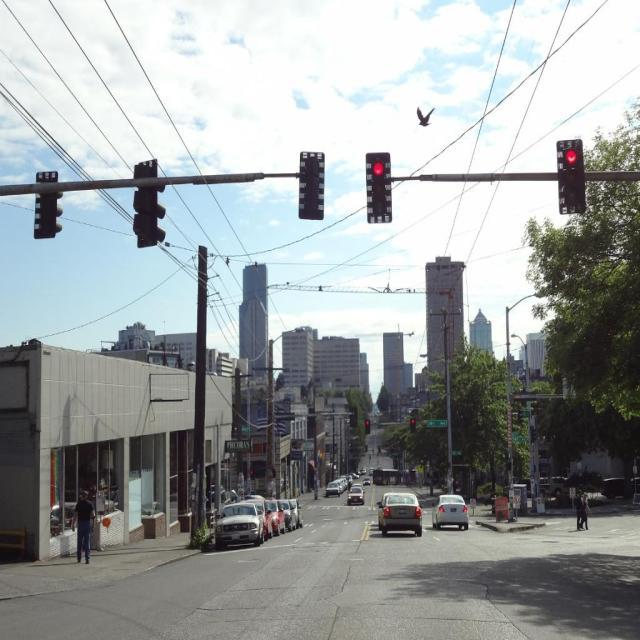off traffic light: (134, 162, 170, 247)
traffic light: (555, 140, 587, 215), (366, 149, 395, 225), (298, 151, 324, 217)
